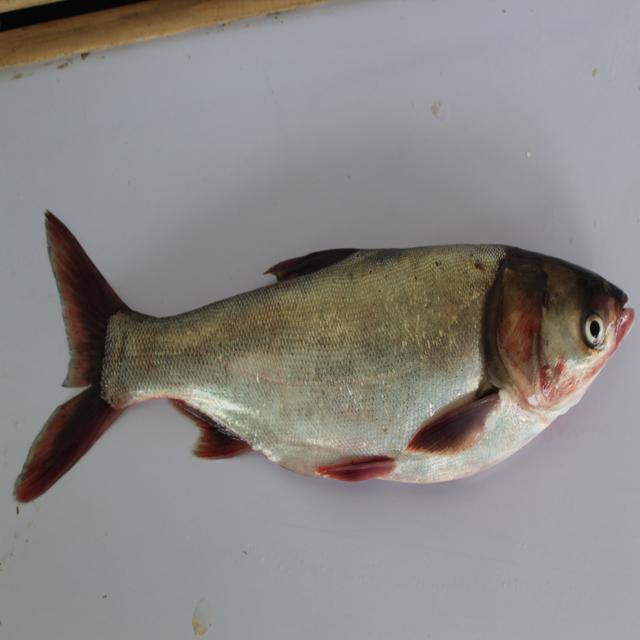SilverCarp: (17, 191, 631, 514)
